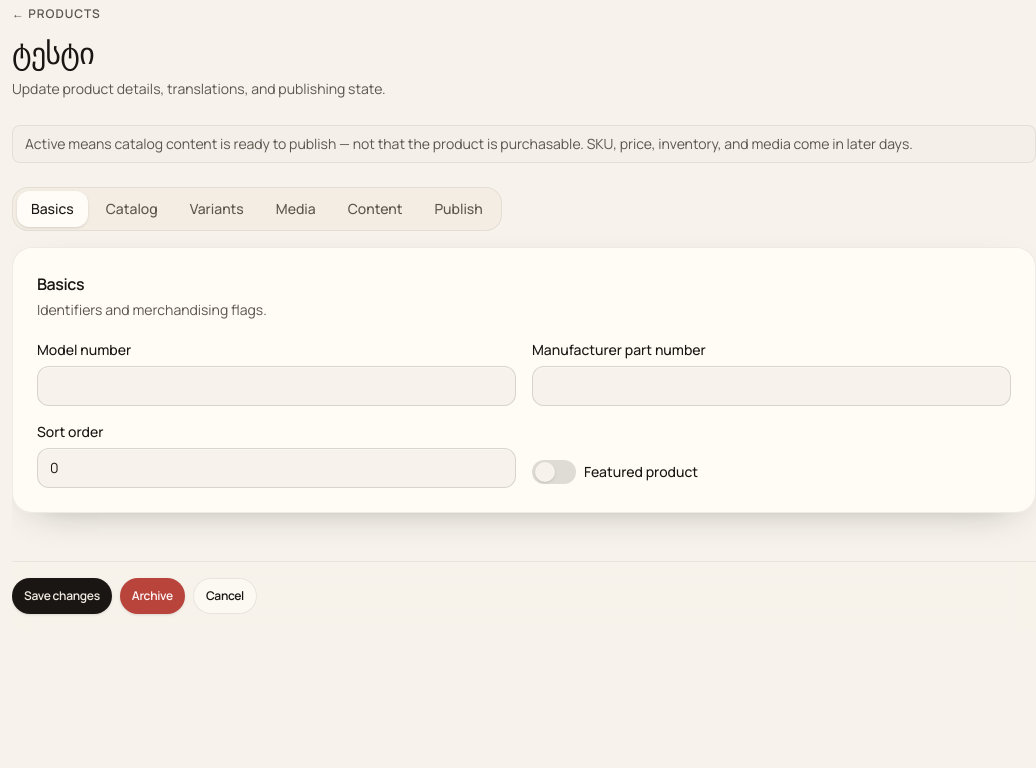
ProductFormPage › displays readiness issues on edit
Expected: the field labelled "Model number" is shown, [37,366,516,406]
Click the tab "Publish": (459, 209) [420,191,497,227]
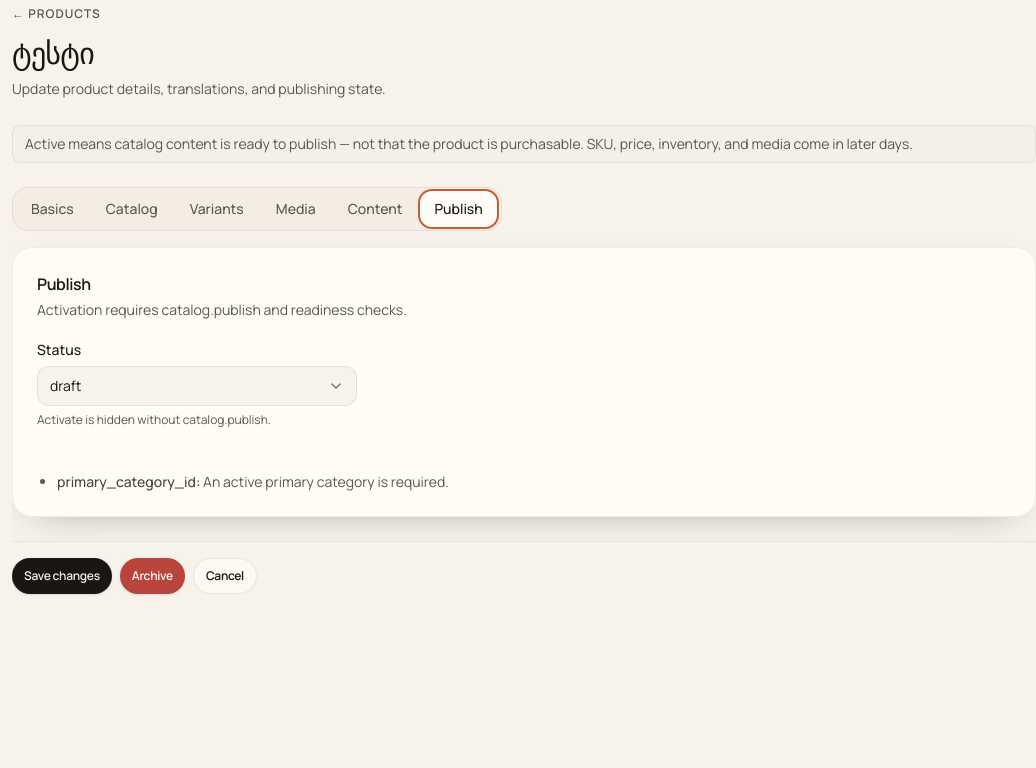
Expected: the list item "primary_category_id: An active primary category is required." is shown, [57,472,449,491]
